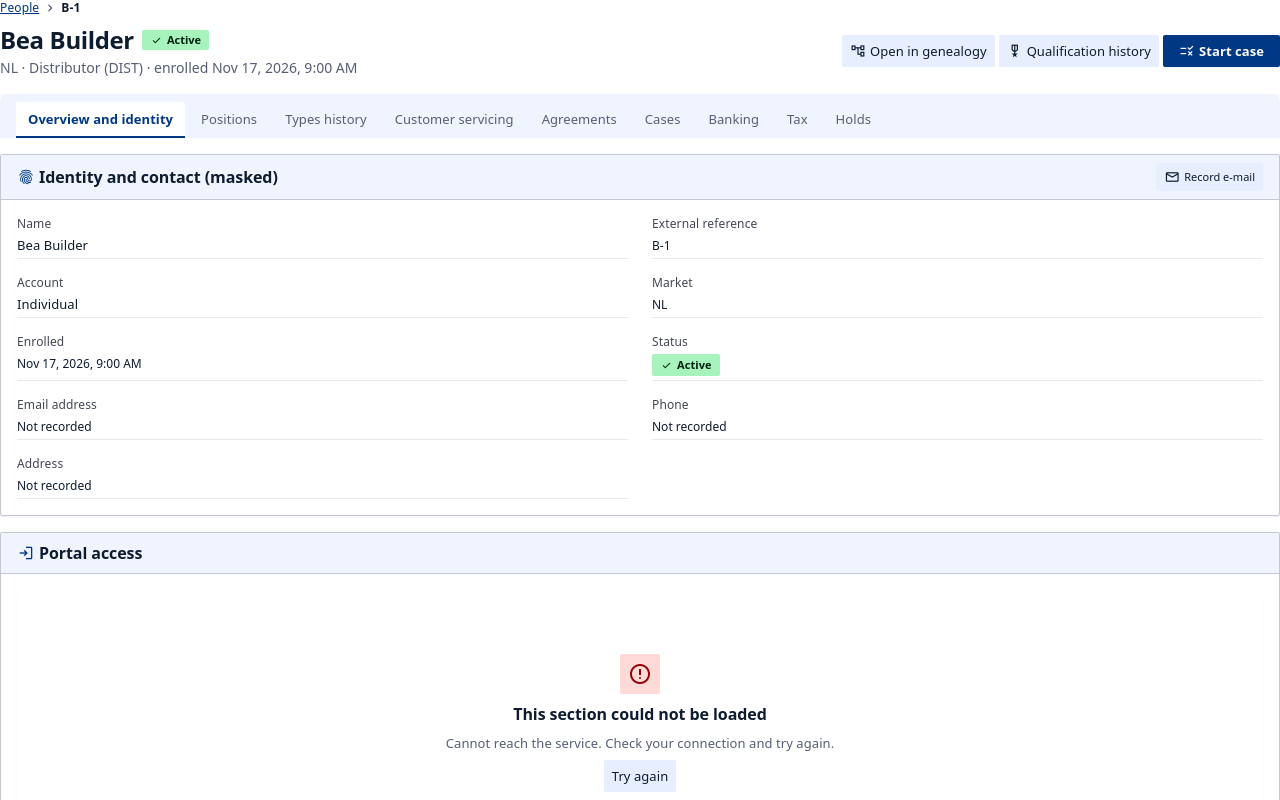
ParticipantRecord (SC-09) › records a first contact e-mail with a reason and step-up when none is on record (BUG-133)
The image size is (1280, 800).
Click the button "Record e-mail". click: (1210, 177)
box: [1156,163,1263,191]
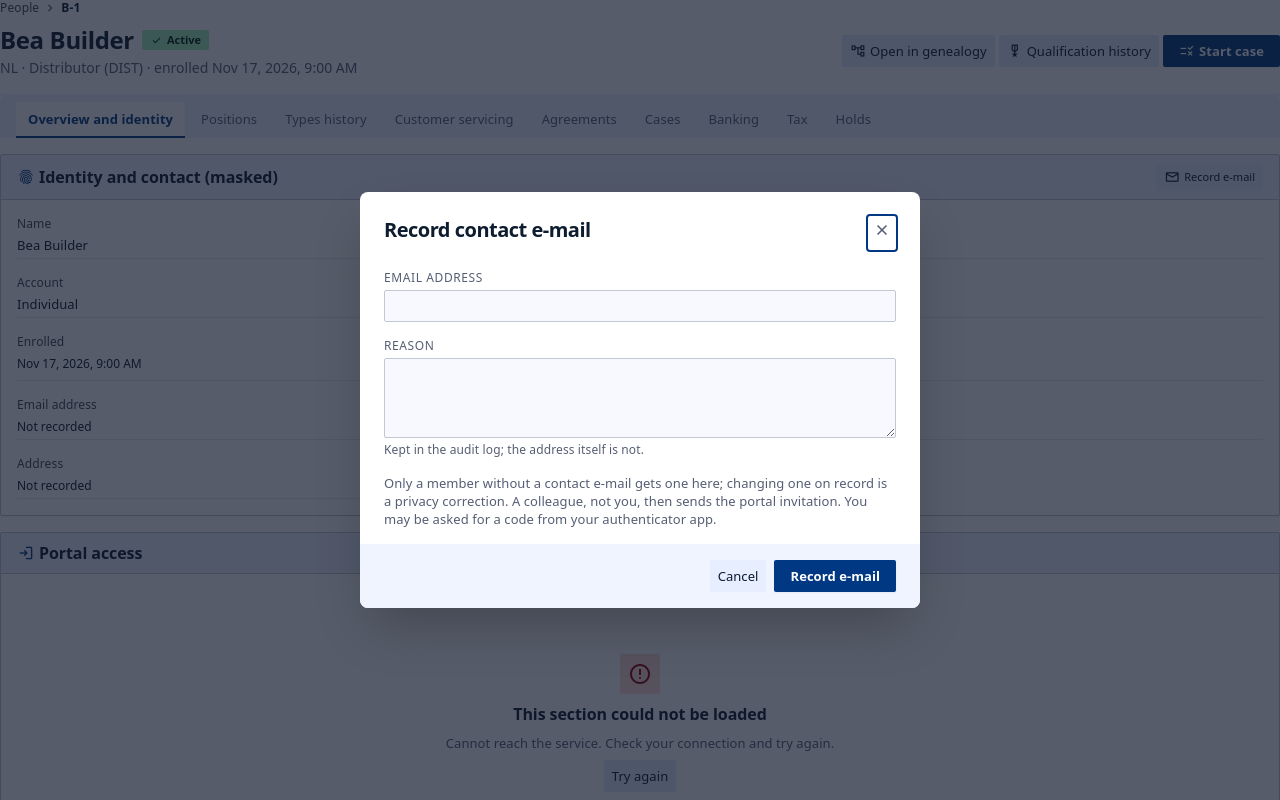
Type "not-an-address" into the field labelled "Email address". click: (640, 306)
box: [384,290,896,322]
Click the button "Record e-mail". click: (835, 576)
box: [774,560,896,592]
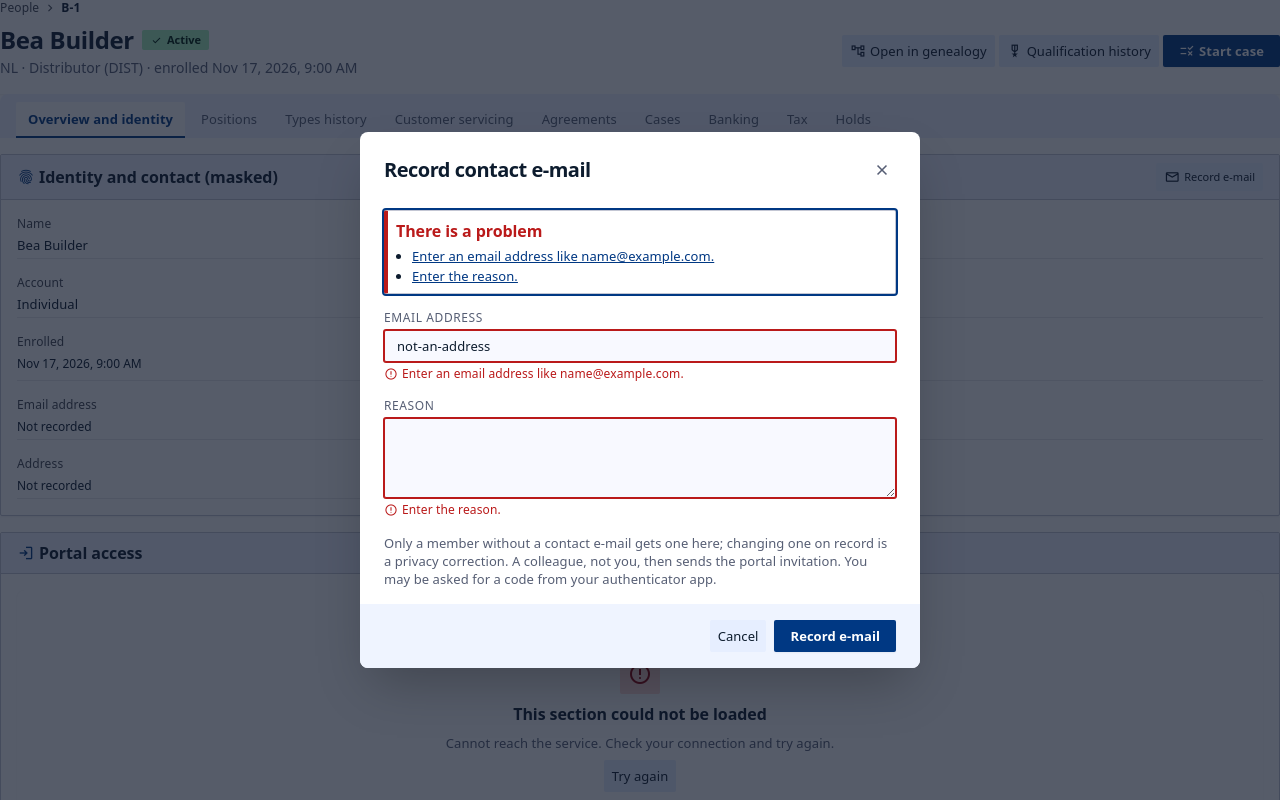
Now the link "Enter an email address like name@example.com." is shown, box [412,247,714,265]
Now the link "Enter the reason." is shown, box [412,267,518,285]
Replace the text in the field labelled "Email address" with " at-a@example.test ". click: (640, 346)
box: [384,330,896,362]
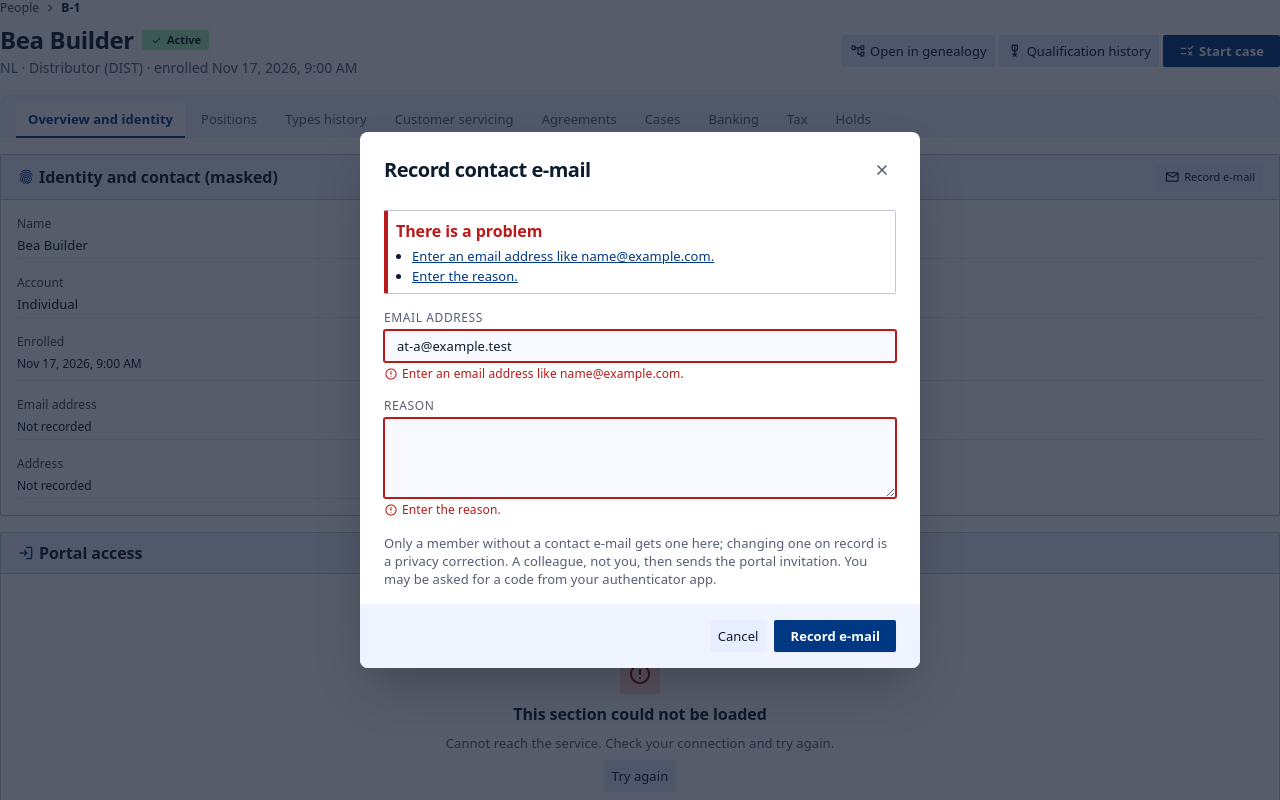
Type "Migrated member asked for portal access" into the text box labelled "Reason". click: (640, 458)
box: [384,418,896,498]
Click the button "Record e-mail". click: (835, 636)
box: [774,620,896,652]
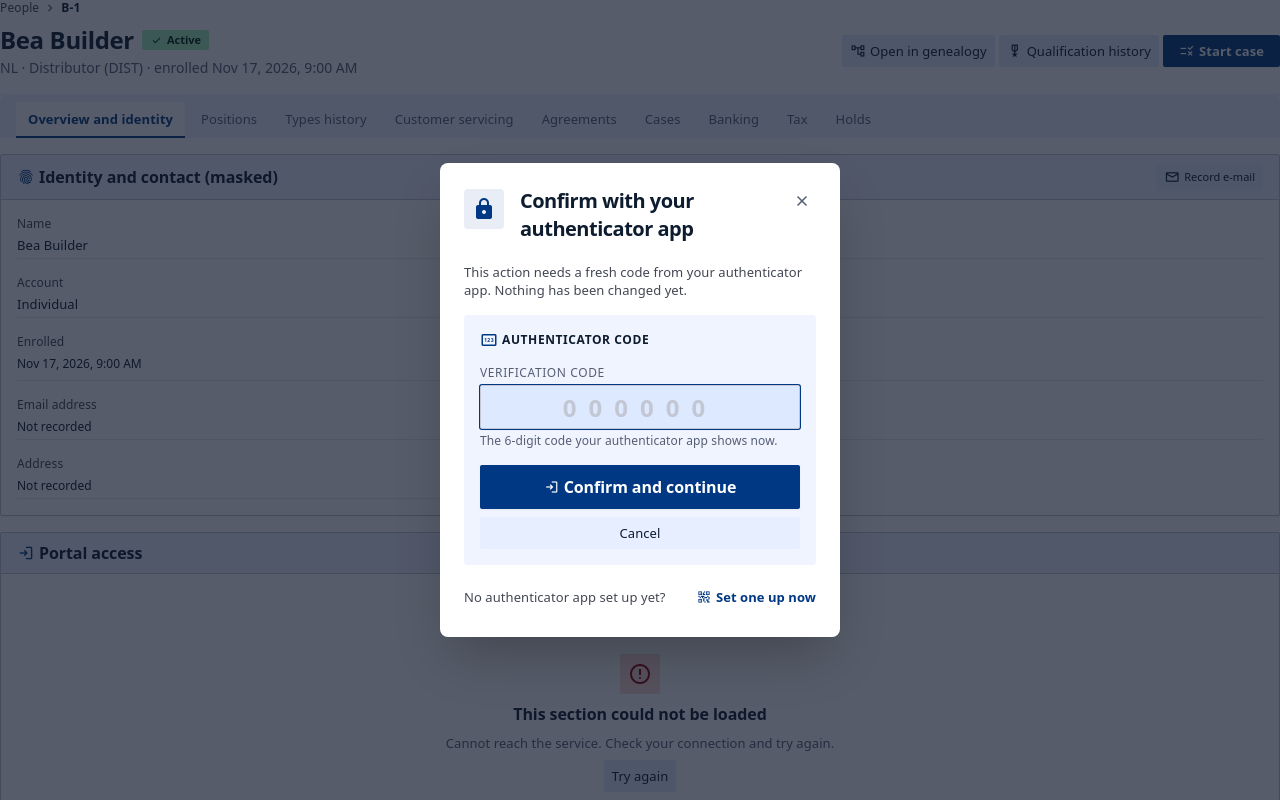
Type "123456" into the field labelled "Verification code". click: (640, 407)
box: [480,385,800,429]
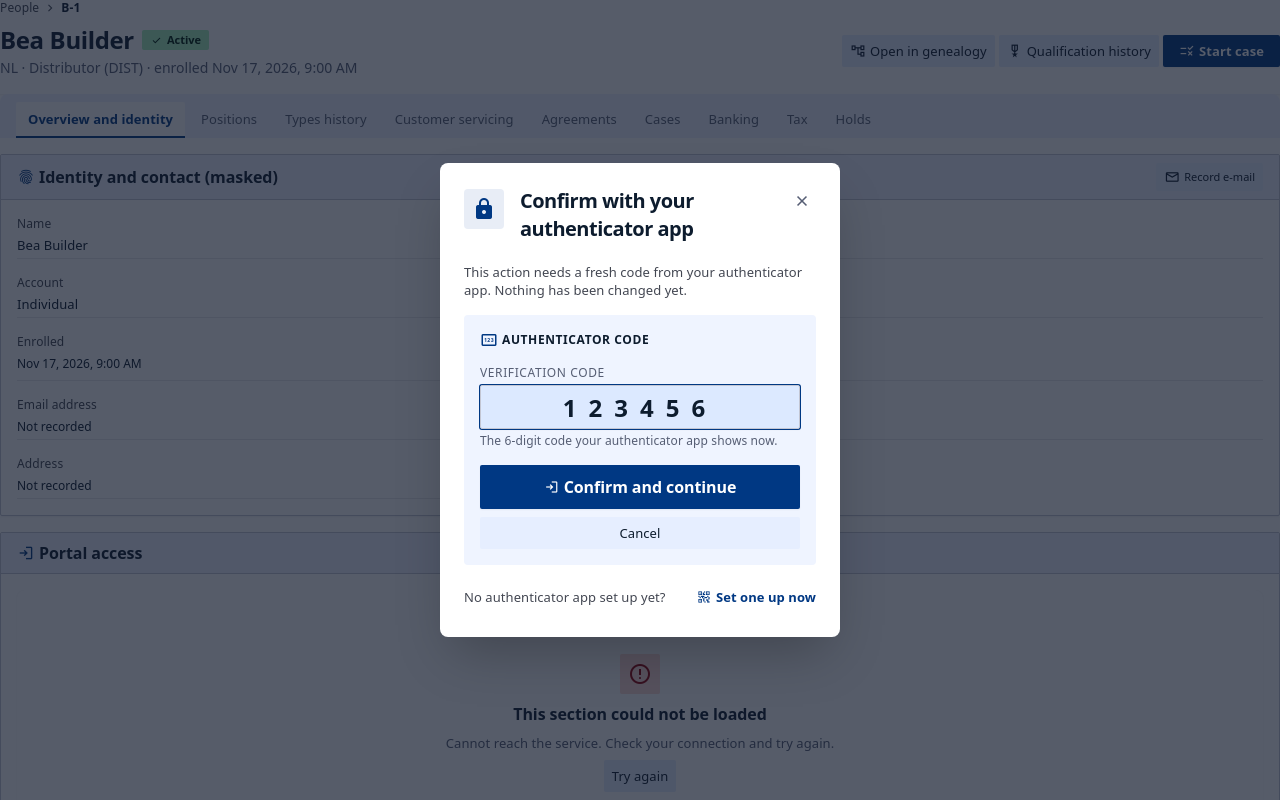
Click the button "Confirm and continue". click: (640, 487)
box: [480,465,800,509]
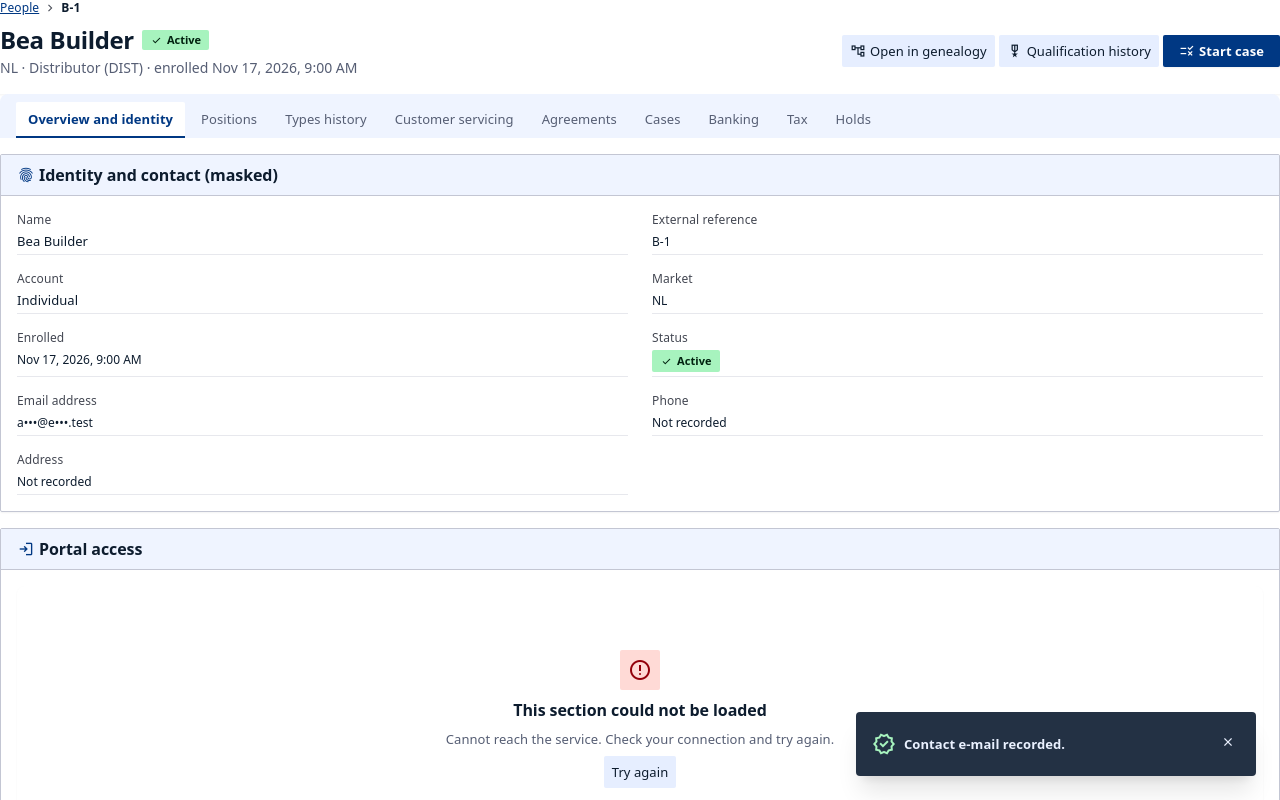
Now the text "a•••@e•••.test" is shown, box [17,414,93,431]
Now the button "Record e-mail" is gone
